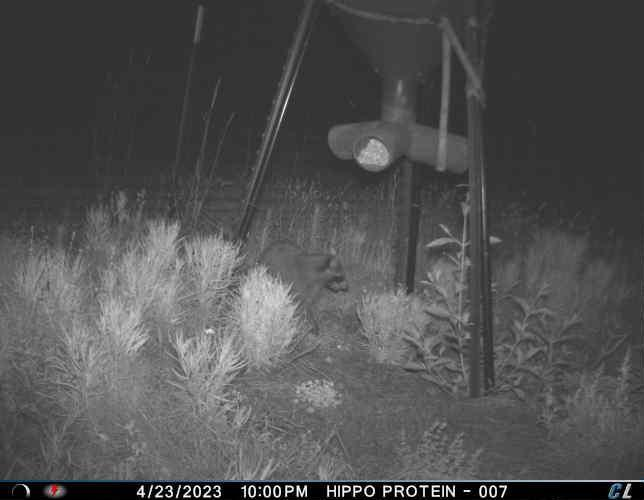Raccoon: (254, 238, 350, 334)
